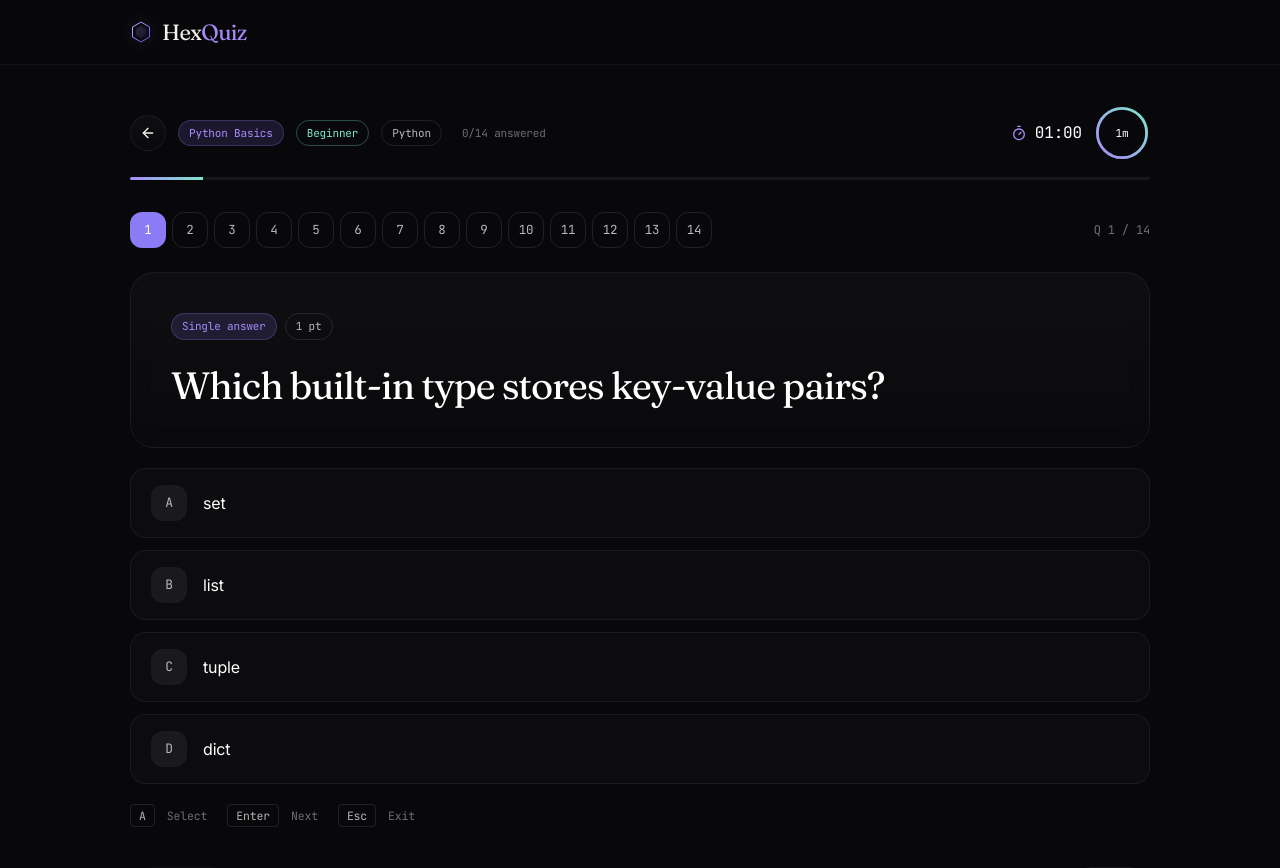
Test: QuizPlay (mock demo quiz) › selecting an answer updates the answered counter
Expected: the text "0/14 answered" is shown, [462,125,546,141]
Click the button with test id "option-B" at (169, 585), box [130,550,1150,620]
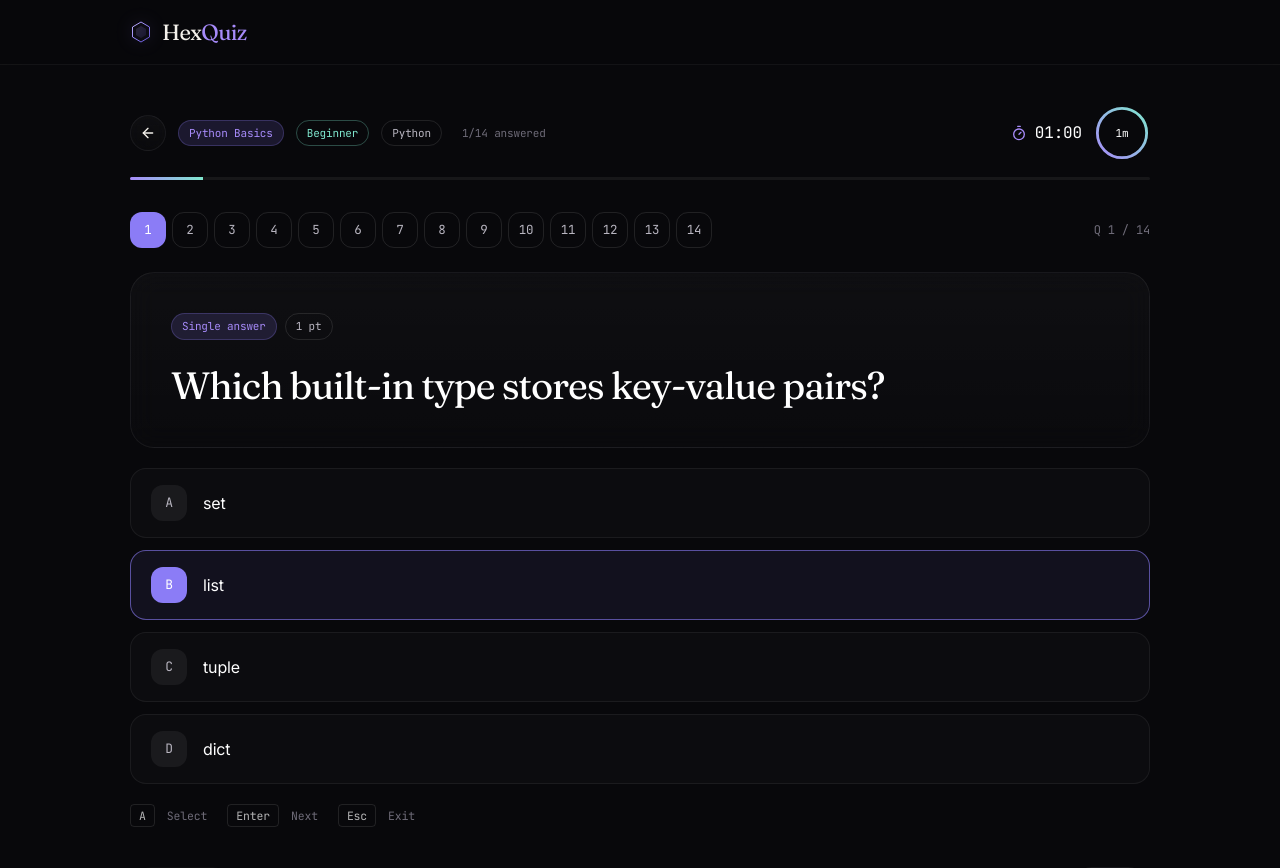
Expected: the text "1/14 answered" is shown, [462,125,546,141]
